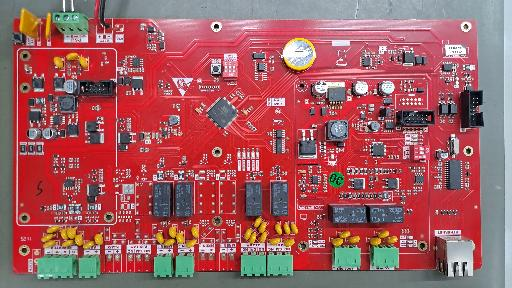var: (19, 8, 43, 40), (45, 12, 51, 40), (41, 233, 55, 242), (53, 57, 64, 68), (43, 240, 58, 248), (94, 233, 104, 245), (75, 233, 84, 246), (384, 236, 398, 244), (78, 57, 88, 68), (369, 237, 381, 246), (168, 226, 177, 238), (60, 228, 69, 240), (46, 226, 61, 233), (66, 52, 79, 60), (347, 236, 360, 244), (67, 228, 76, 239), (290, 222, 298, 234), (283, 239, 295, 247), (191, 226, 199, 238), (244, 228, 252, 240), (332, 238, 344, 246), (259, 231, 267, 243), (156, 232, 164, 244), (249, 232, 257, 244), (83, 241, 95, 249), (176, 232, 184, 244), (62, 239, 74, 247), (275, 222, 282, 235), (378, 230, 389, 238), (254, 217, 262, 228), (186, 239, 197, 247), (259, 222, 267, 233), (164, 238, 175, 246), (283, 222, 290, 234), (339, 231, 351, 238), (269, 238, 280, 245)
